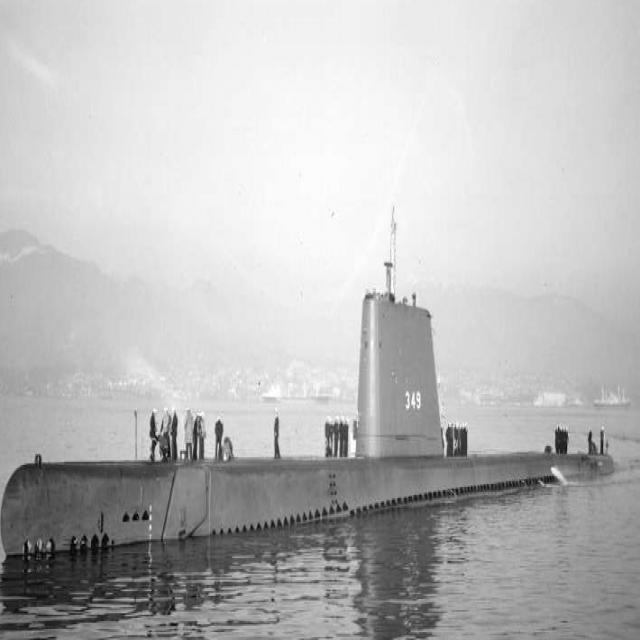submarine: (2, 211, 620, 558)
